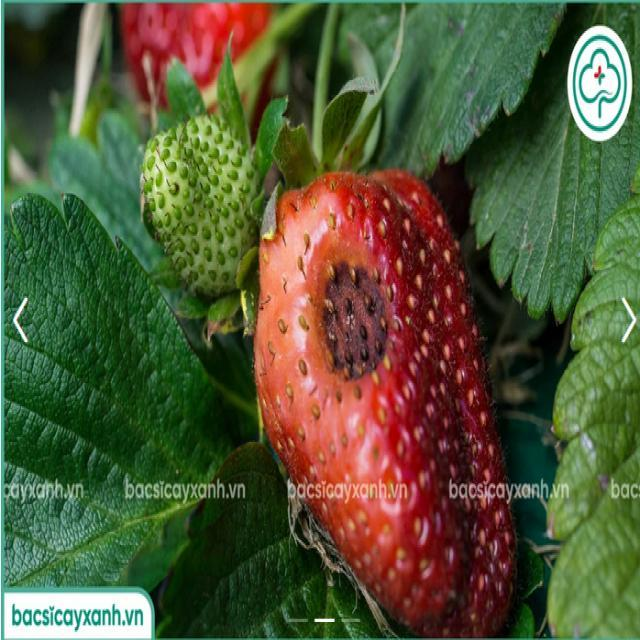Fruta sana: (119, 5, 273, 114)
Mancha negra Antracnosis: (264, 180, 520, 629)
